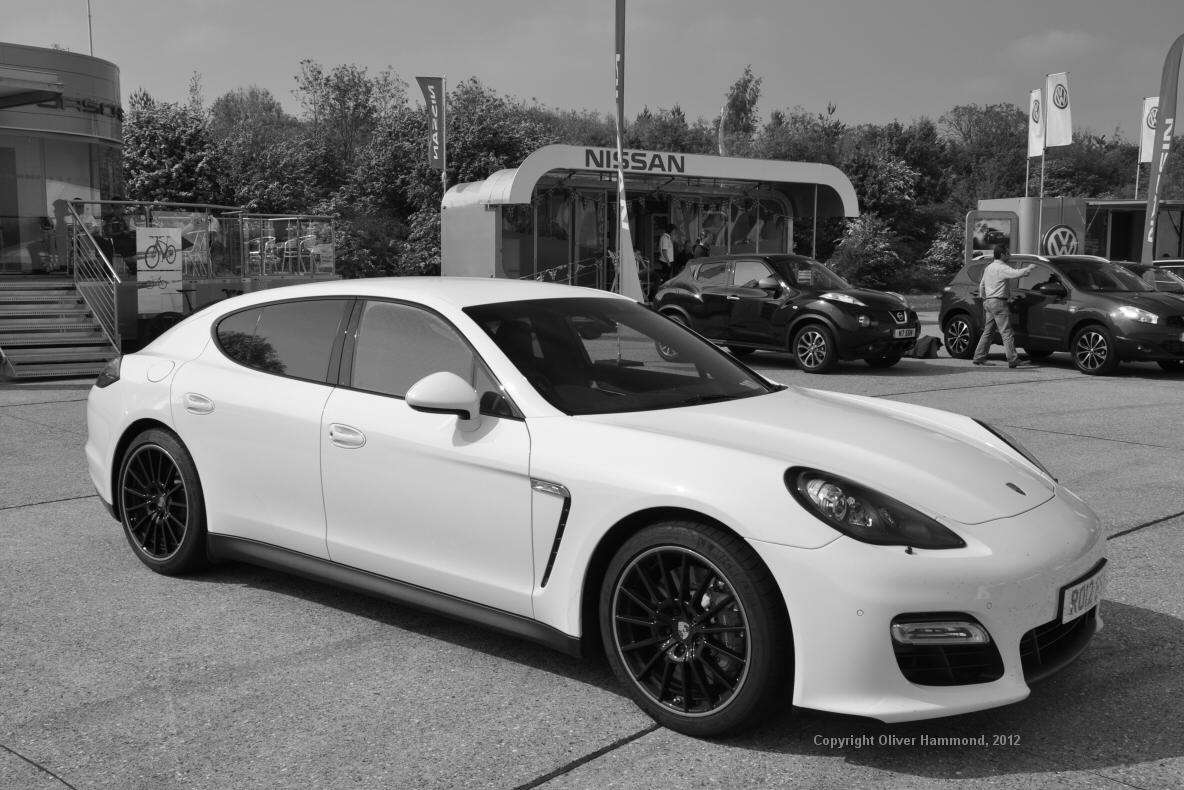car: (82, 270, 1113, 740)
